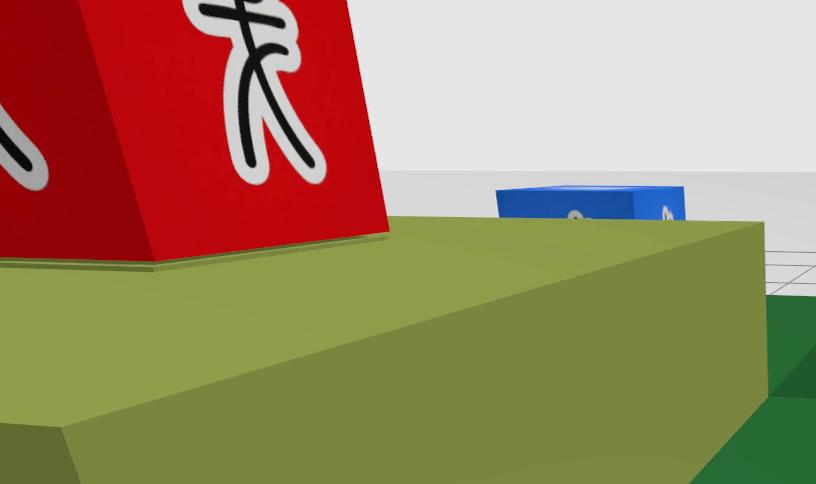KFS_FAKE: (0, 0, 387, 261), (184, 0, 326, 184)
